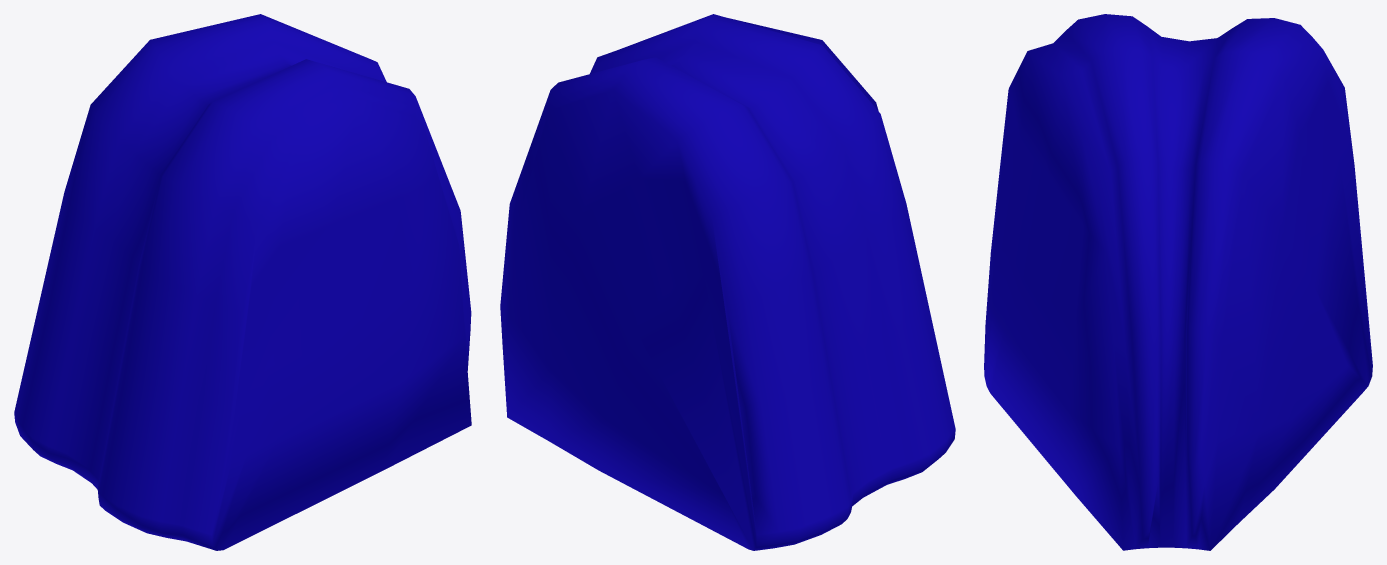
The model's file is jellpiece.glb.
The picture shows the model from 3 angles, left to right: view 1: azimuth 30°, elevation 25°; view 2: azimuth 150°, elevation 25°; view 3: azimuth 270°, elevation 25°; orthographic projection. The views are drawn at different scales.
Parts seen in each view (by area): view 1: Node.013; view 2: Node.013; view 3: Node.013.
Part boxes in pixels (box(x1,y1,x2,y2)): Node.013: box(14, 14, 471, 550); Node.013: box(500, 14, 955, 550); Node.013: box(984, 14, 1372, 550).
Bounding box in the file's own units: 7.12 × 7.08 × 5.86.
